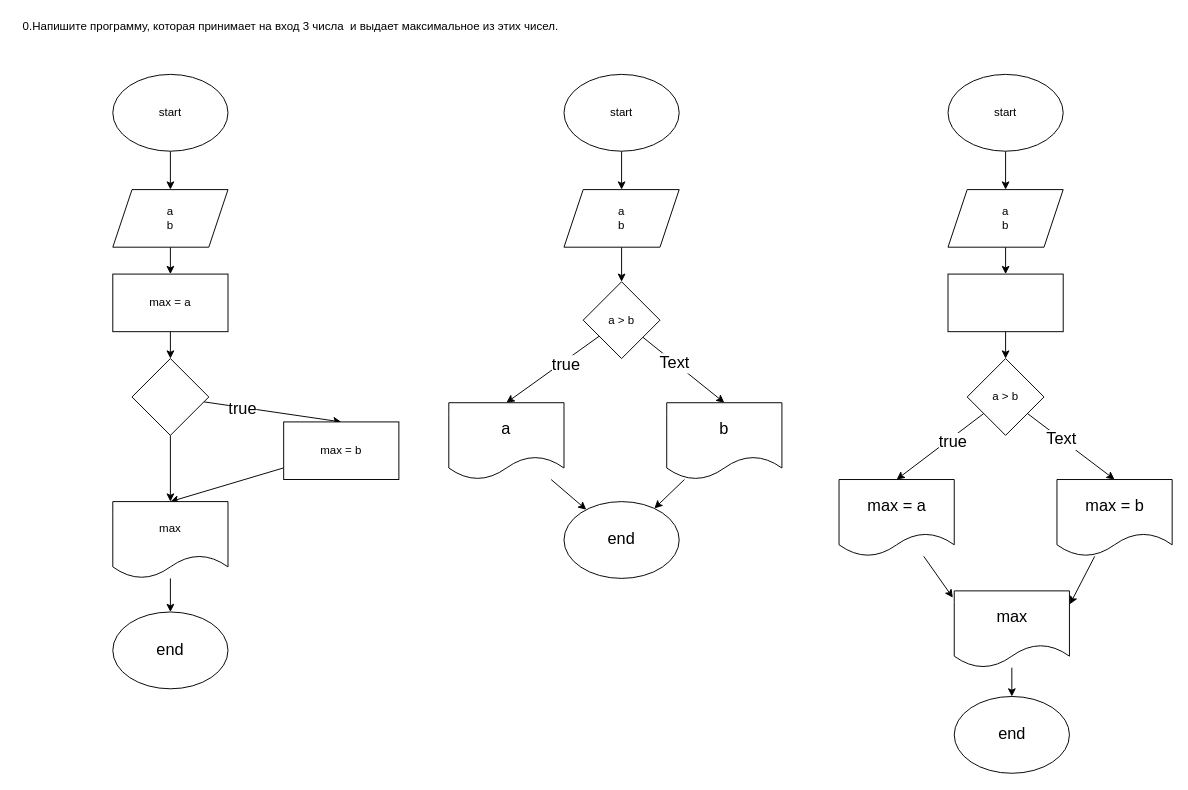
The diagram is 1188 pixels wide and 790 high, and some of its shapes have lost their labels. Each missing label, with the centre of its shape:
"b > max" belongs at [170,396].
"max = 0" belongs at [1005,302].
